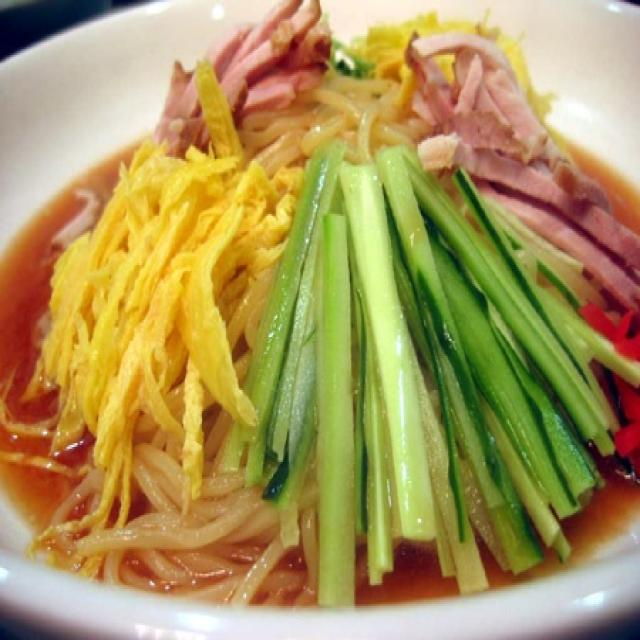面条主食: (1, 0, 638, 632)
